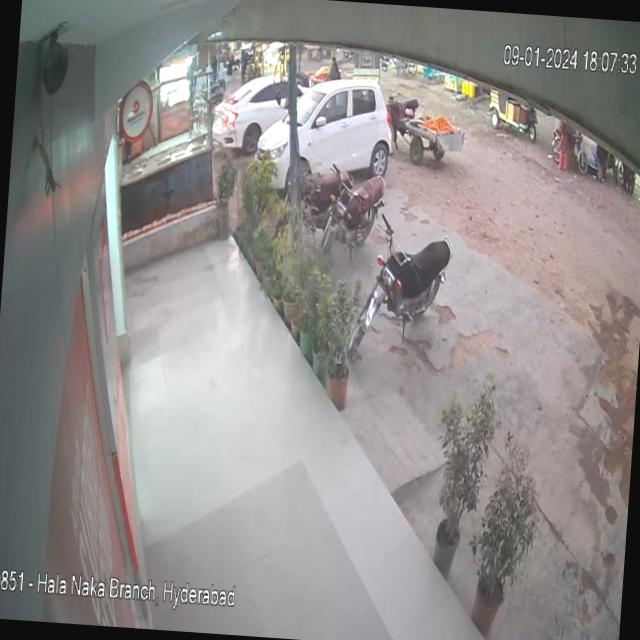Motorcycle: (347, 201, 464, 365), (323, 162, 392, 254), (548, 121, 590, 178)
